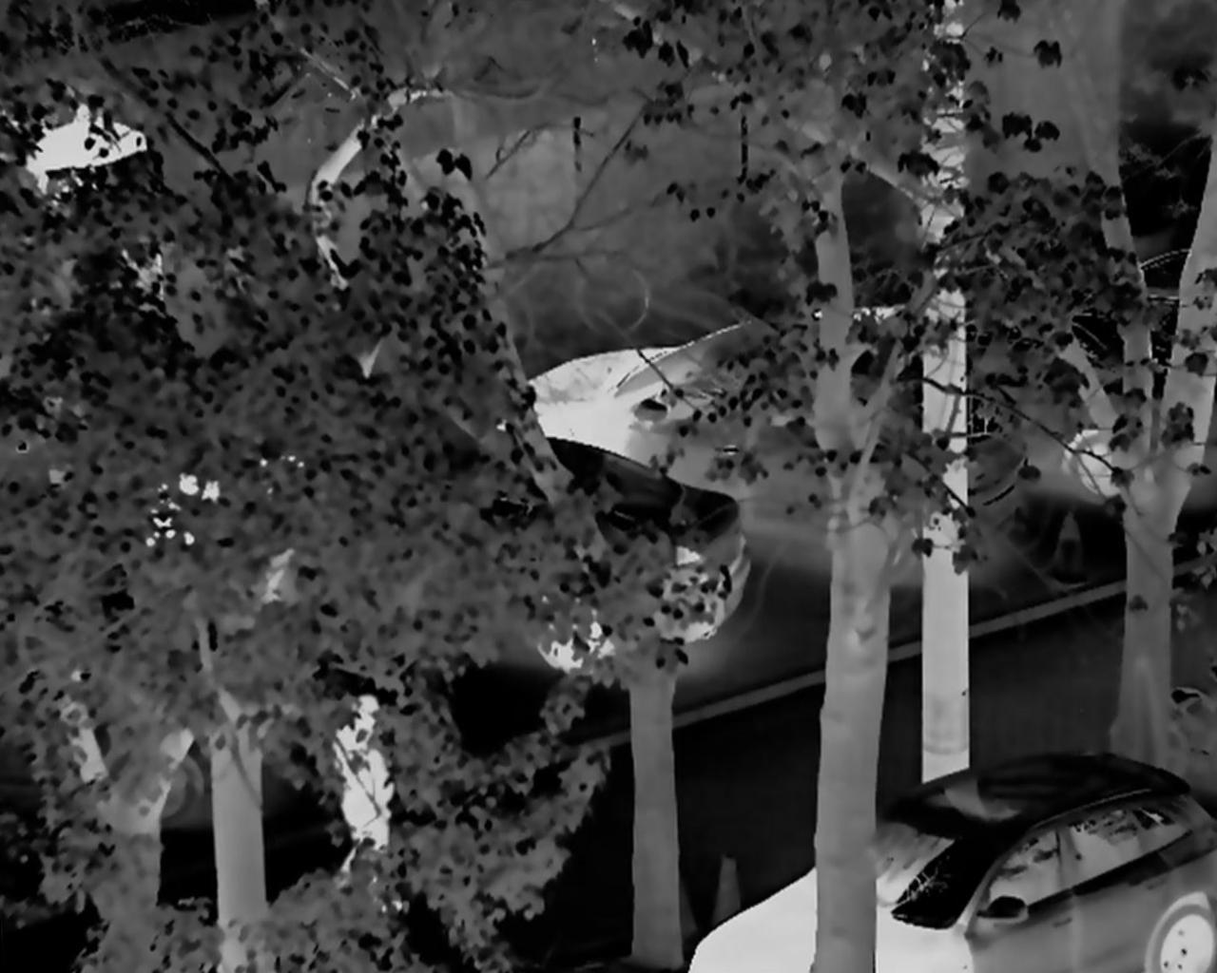person: (330, 689, 412, 908)
